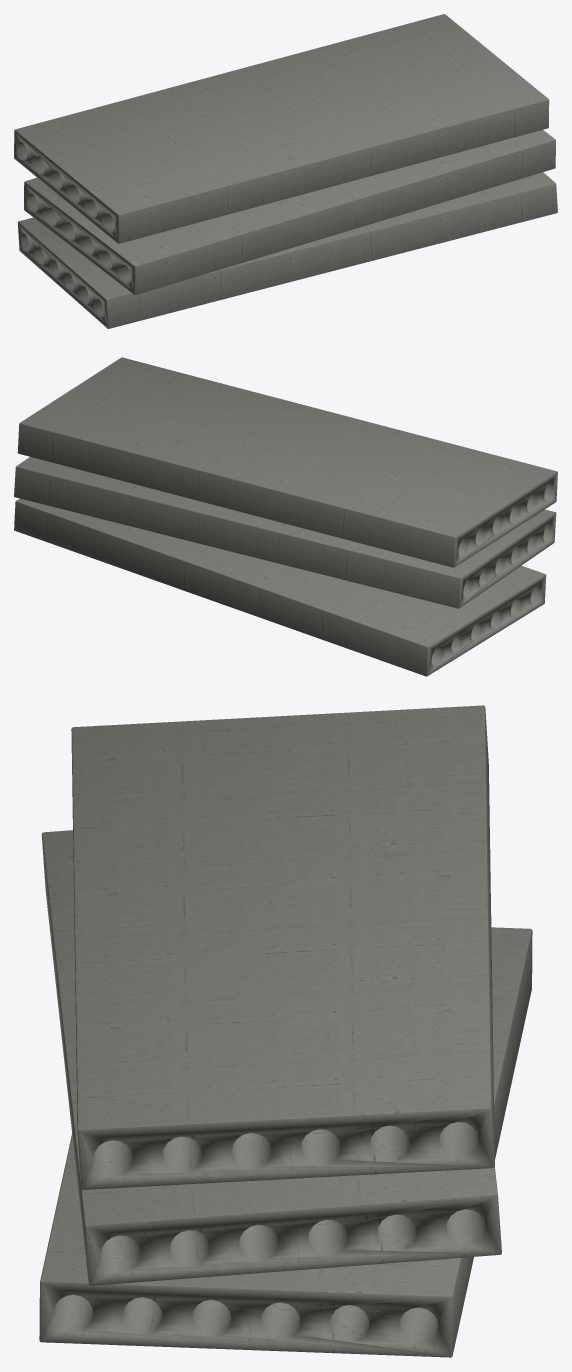
Rendered from EST-PRE-003_anim.glb.
The picture shows the model from 3 angles, top to bottom: view 1: azimuth 30°, elevation 25°; view 2: azimuth 150°, elevation 25°; view 3: azimuth 270°, elevation 25°; orthographic projection. The views are drawn at different scales.
Visible parts, largest first — view 1: EST-PRE-003_anim2, EST-PRE-003_anim1, EST-PRE-003_anim0; view 2: EST-PRE-003_anim2, EST-PRE-003_anim0, EST-PRE-003_anim1; view 3: EST-PRE-003_anim2, EST-PRE-003_anim1, EST-PRE-003_anim0.
Boxes of the visible parts, x1,y1,x2,y2 form: EST-PRE-003_anim2: (14, 14, 549, 243); EST-PRE-003_anim1: (24, 130, 555, 294); EST-PRE-003_anim0: (17, 172, 557, 328); EST-PRE-003_anim2: (17, 357, 557, 567); EST-PRE-003_anim0: (14, 498, 546, 676); EST-PRE-003_anim1: (14, 457, 556, 608); EST-PRE-003_anim2: (71, 705, 494, 1189); EST-PRE-003_anim1: (41, 830, 501, 1285); EST-PRE-003_anim0: (39, 927, 532, 1357).
Size of the model in its own units: 3.1 by 0.9521 by 1.48.
1 material, 1 textured.
